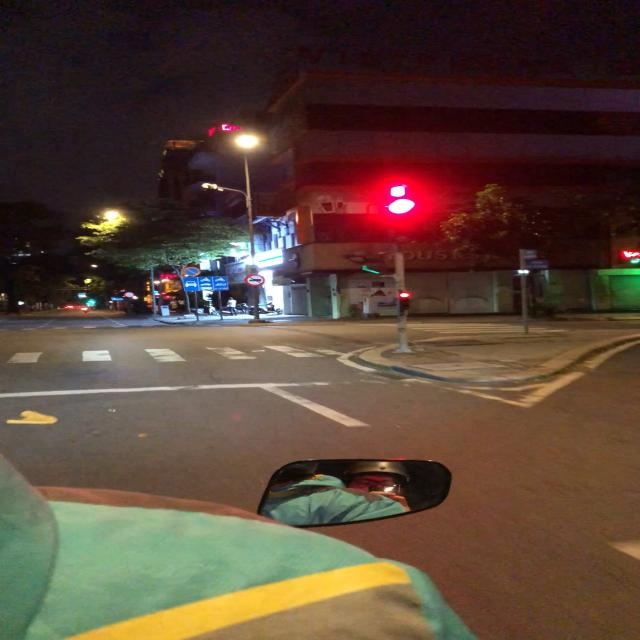Bien bao cam do xe: (180, 266, 201, 278)
Bien bao cam xe so-mi ro-mooc: (242, 272, 272, 289)
